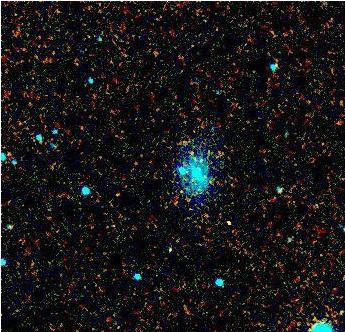star: (213, 209, 243, 239)
